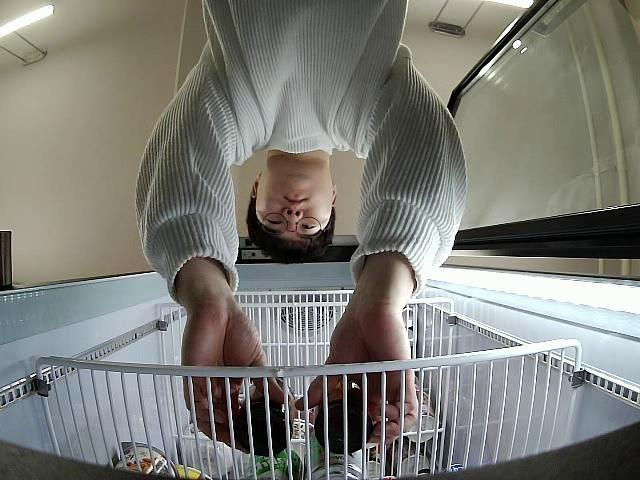17_vita500: (313, 372, 374, 456), (234, 373, 293, 458)
